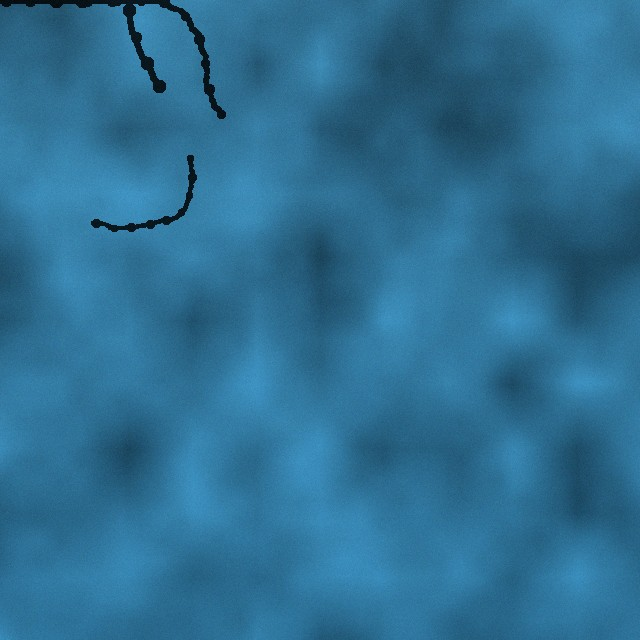crack: (82, 0, 226, 119), (0, 0, 165, 92), (88, 154, 197, 232)
